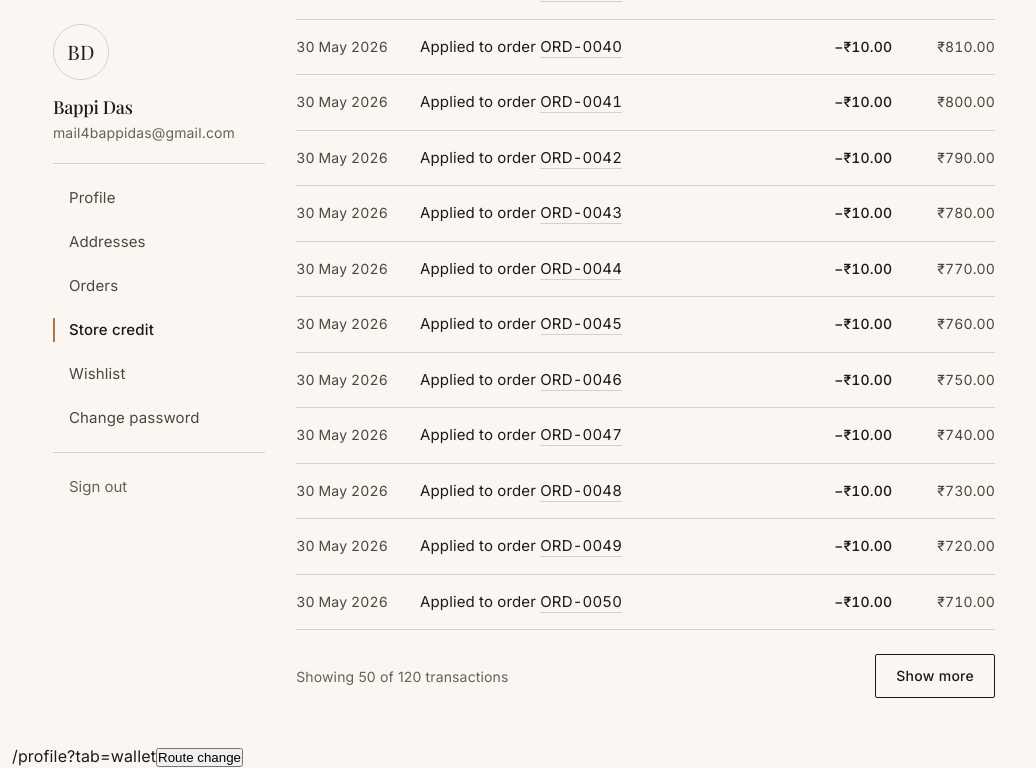
Test: Show more adds 50 and moves focus to the first of them; the last press shows them all
The width and height of the screenshot is (1036, 768).
(page scrolled)
Click the button "Show more" at (935, 676), box [875,654,995,698]
(page scrolled)
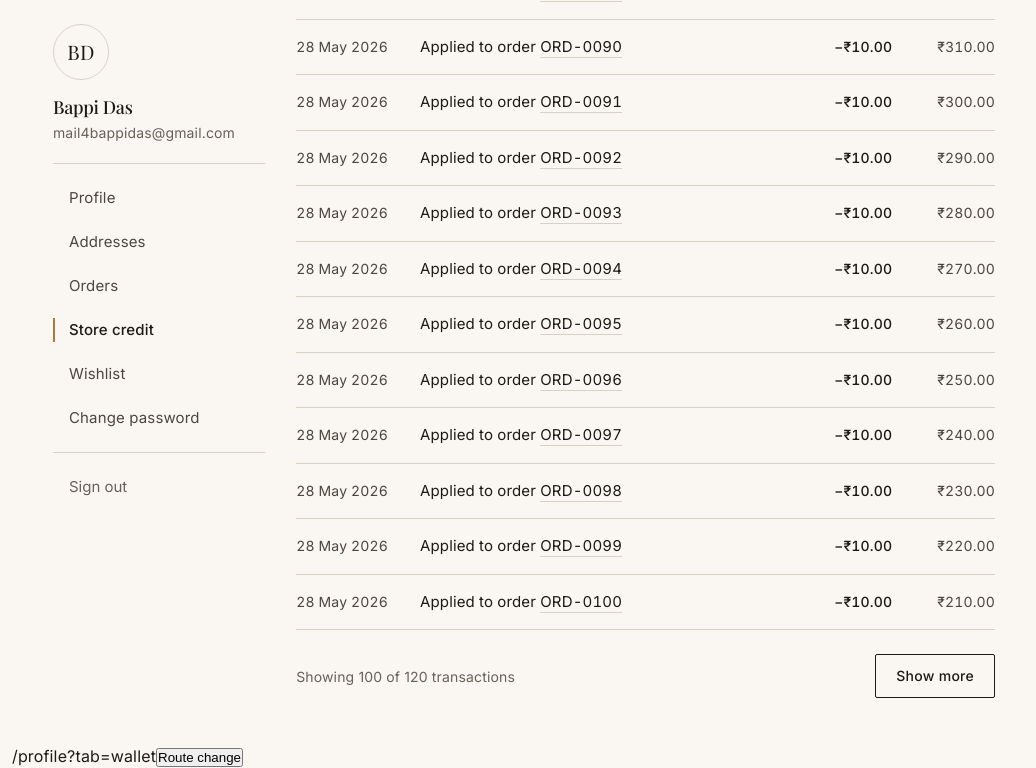
Check: the text "Showing 100 of 120 transactions" is shown, box [296,666,515,686]
Click the button "Show more" at (935, 676), box [875,654,995,698]
(page scrolled)
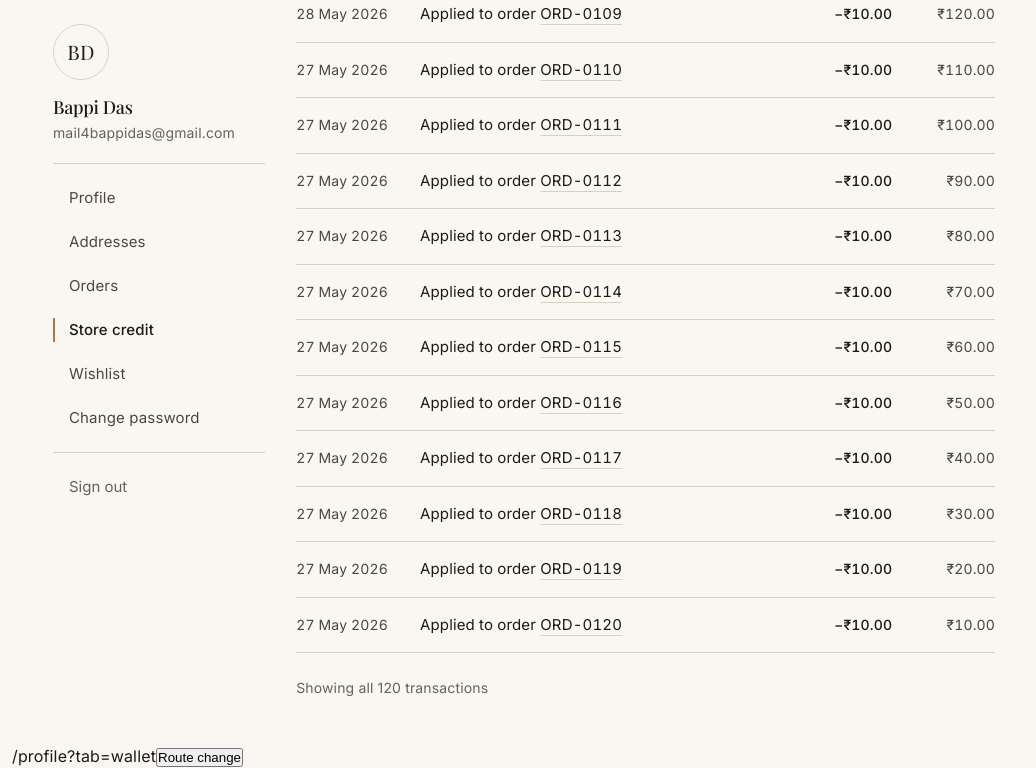
Check: the text "Showing all 120 transactions" is shown, box [296,677,488,698]
Check: the button "Show more" is gone
